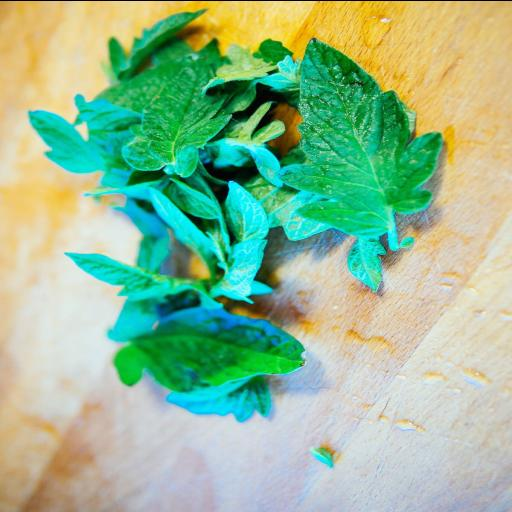Healthy: (276, 36, 442, 240), (128, 36, 236, 184)
